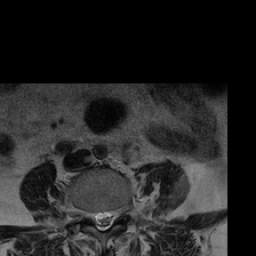CCS_normal: (99, 204, 106, 237)
LFS_normal: (115, 195, 124, 225)
LLS_normal: (106, 203, 115, 234)
RFS_normal: (83, 202, 91, 226)
RLS_normal: (91, 204, 99, 231)
